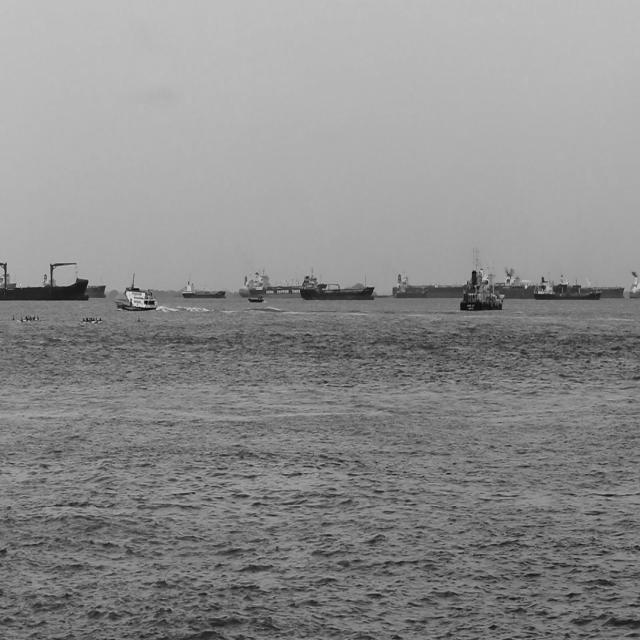kayak: (17, 310, 43, 324), (78, 314, 105, 325), (247, 294, 266, 306), (131, 312, 146, 326), (10, 312, 22, 323)
ship: (390, 263, 531, 297), (511, 264, 625, 298), (0, 258, 92, 300), (459, 244, 507, 312), (301, 266, 377, 301), (241, 259, 303, 296), (534, 271, 603, 299), (113, 280, 165, 314), (42, 271, 106, 296), (179, 269, 226, 299), (0, 268, 22, 289)
